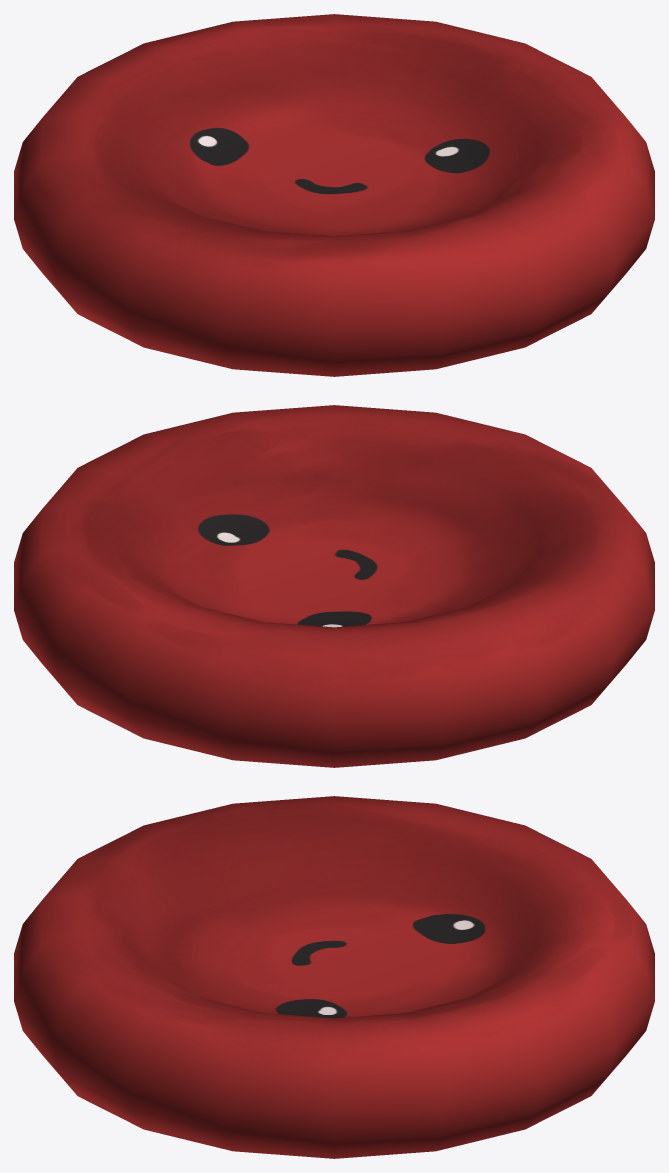
Rendered from Citizen_RedBloodCell.FBX.
3 views of the same model, one above another, from view 1: azimuth 30°, elevation 25°; view 2: azimuth 150°, elevation 25°; view 3: azimuth 270°, elevation 25° (orthographic).
Visible parts, largest first — view 1: Red_BloodCell; view 2: Red_BloodCell; view 3: Red_BloodCell.
Part boxes in pixels (left/top/right/bottom): Red_BloodCell: left=14, top=14, right=654, bottom=376; Red_BloodCell: left=14, top=405, right=654, bottom=767; Red_BloodCell: left=14, top=796, right=654, bottom=1158.
Size of the model in its own units: 57.02 by 11.82 by 56.15.
